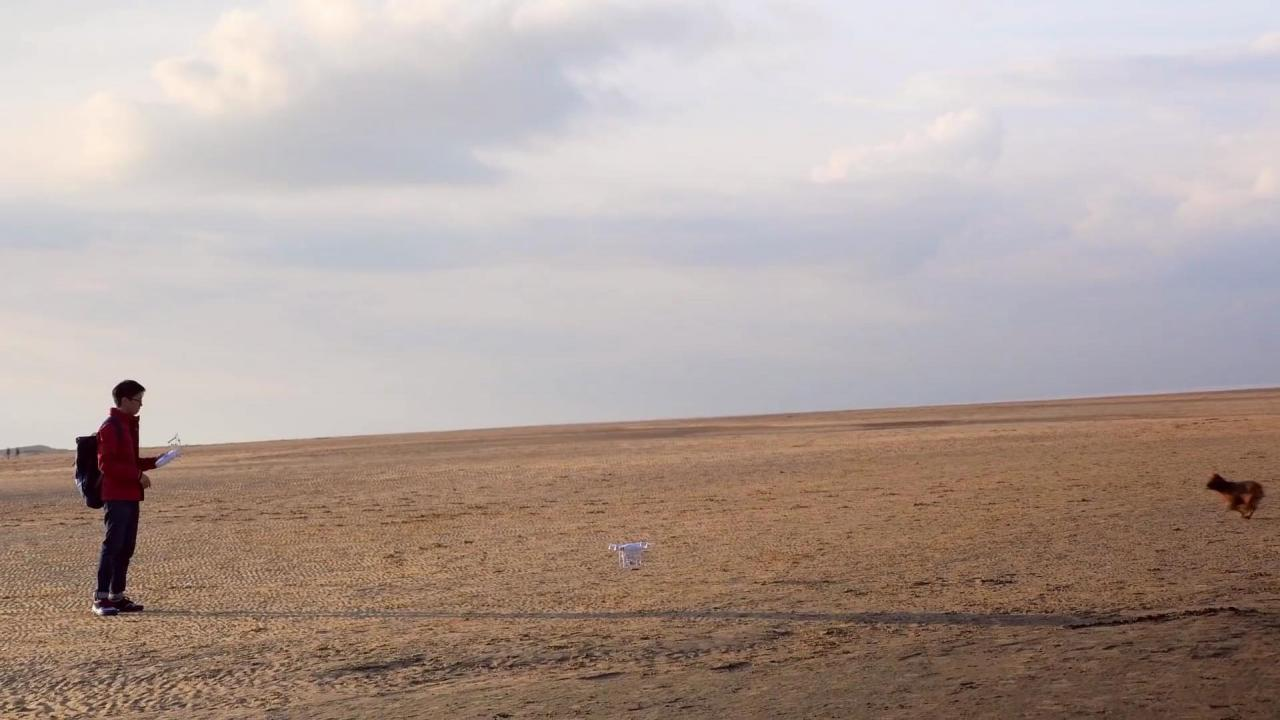Drone: (599, 535, 663, 571)
